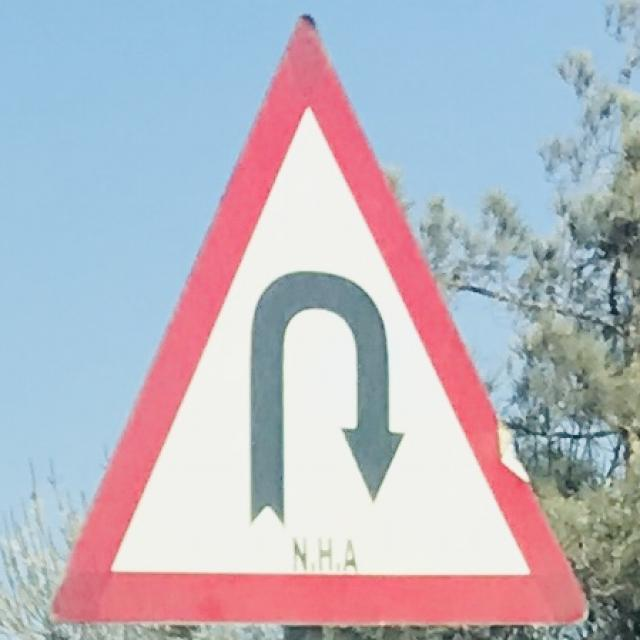u turn: (42, 25, 601, 620)
